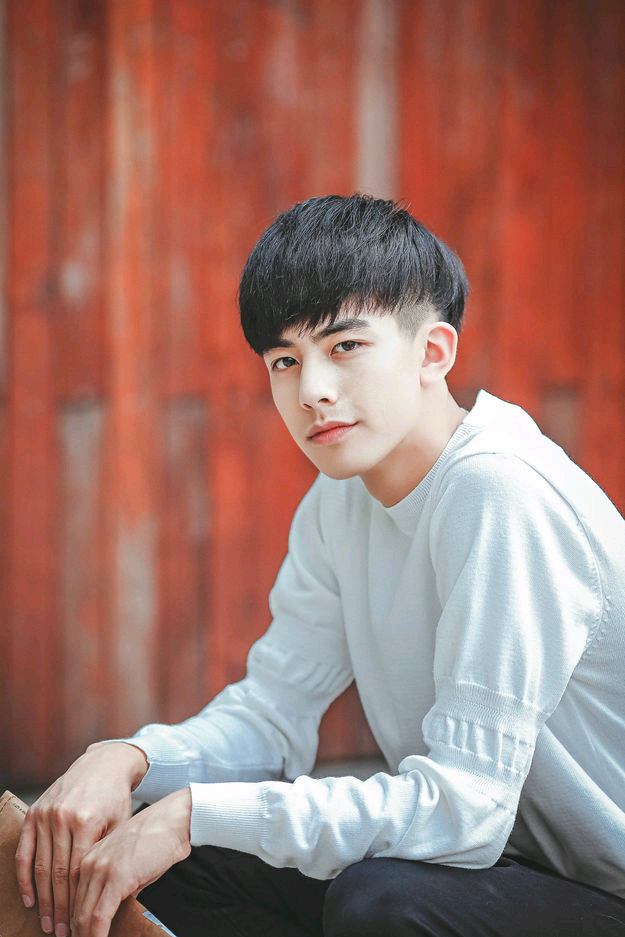person: (201, 177, 589, 937)
